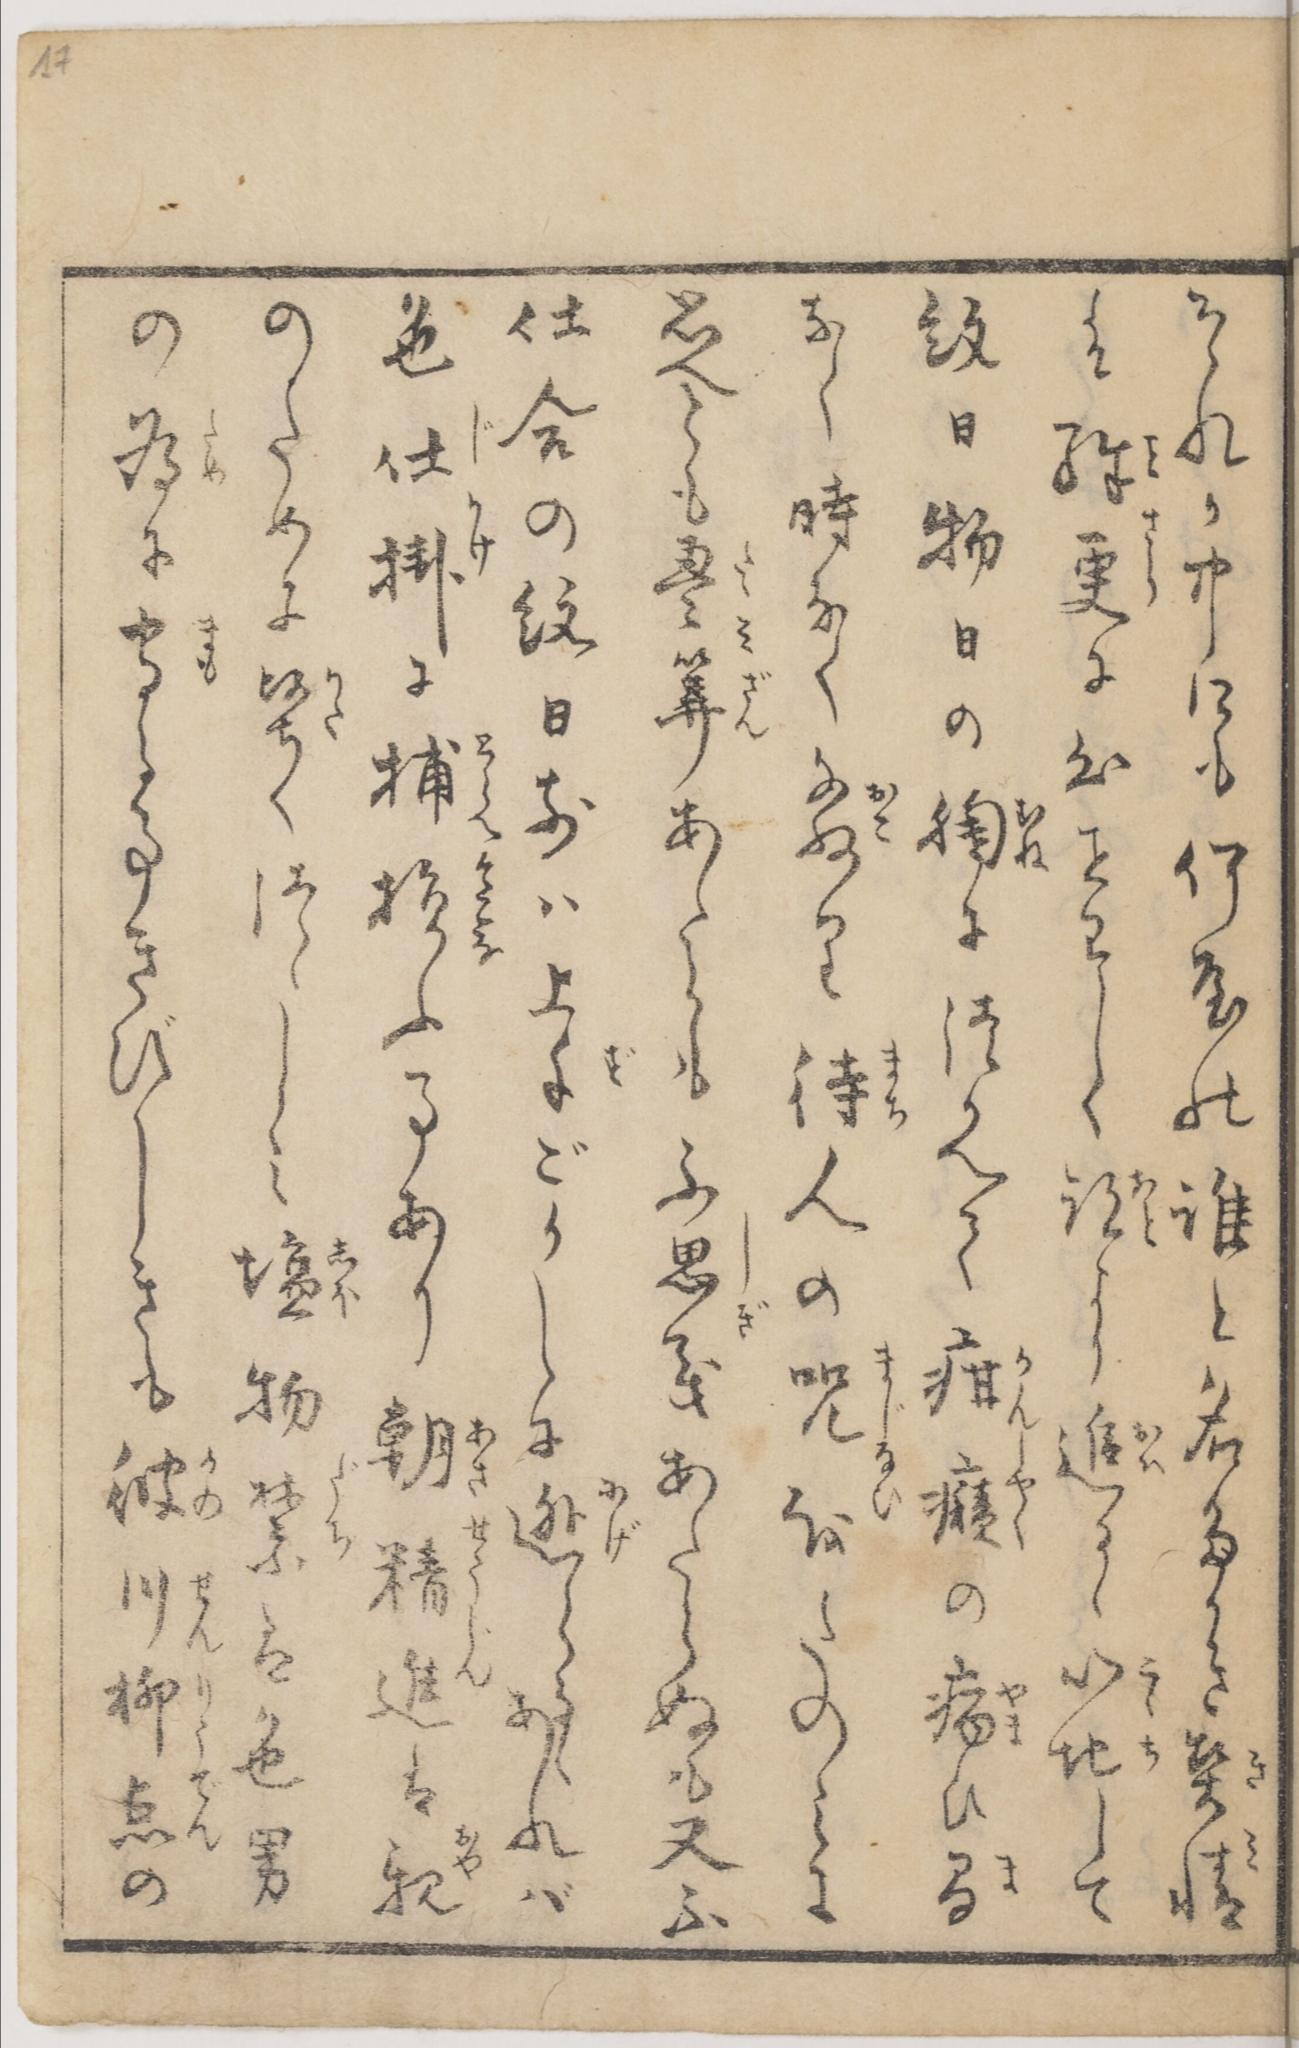MainZone-Character: (785, 1333, 912, 1542), (367, 846, 511, 964), (367, 1618, 499, 1738), (367, 494, 499, 611), (366, 724, 500, 836), (654, 1220, 773, 1342), (248, 1452, 355, 1585), (651, 534, 769, 655), (651, 646, 778, 758), (369, 1506, 496, 1618), (230, 1226, 366, 1330), (921, 1433, 1039, 1552), (366, 1394, 503, 1494), (1051, 505, 1168, 619), (921, 1321, 1045, 1427), (358, 1827, 490, 1926), (782, 1033, 909, 1134), (796, 745, 897, 869), (1157, 1818, 1269, 1930), (921, 781, 1050, 878), (105, 1563, 231, 1658), (91, 1432, 221, 1524), (914, 1654, 1030, 1754), (366, 408, 497, 494), (1048, 1157, 1166, 1252), (1042, 409, 1162, 503), (109, 402, 233, 488), (97, 1663, 215, 1752), (106, 1761, 224, 1851), (122, 605, 231, 694), (1078, 1396, 1175, 1487), (1172, 1723, 1266, 1812), (254, 658, 352, 737), (1048, 1723, 1165, 1787), (1053, 1648, 1169, 1712)
MainZone-Ruby: (867, 1337, 906, 1529), (732, 1221, 776, 1343), (463, 846, 506, 967), (726, 534, 764, 657), (321, 1449, 358, 1566), (729, 663, 778, 748), (464, 727, 502, 839), (320, 1231, 366, 1315), (460, 490, 500, 581), (1126, 1161, 1166, 1252), (191, 1564, 228, 1661), (181, 1763, 224, 1846), (1133, 502, 1165, 614), (455, 1511, 493, 1603), (1008, 1436, 1036, 1554), (1008, 1334, 1042, 1432), (1009, 785, 1047, 873), (454, 1621, 500, 1691), (193, 405, 231, 488), (878, 1034, 909, 1134), (860, 772, 900, 849), (188, 1443, 227, 1521), (461, 1408, 497, 1491), (187, 1663, 219, 1751), (1135, 1412, 1174, 1484), (460, 403, 500, 469), (190, 611, 224, 685), (997, 1675, 1030, 1751), (315, 658, 346, 737), (1130, 1648, 1166, 1711), (449, 1823, 485, 1884), (1238, 1735, 1269, 1787), (1138, 424, 1162, 485), (1241, 1823, 1262, 1873), (1138, 1727, 1160, 1769)
